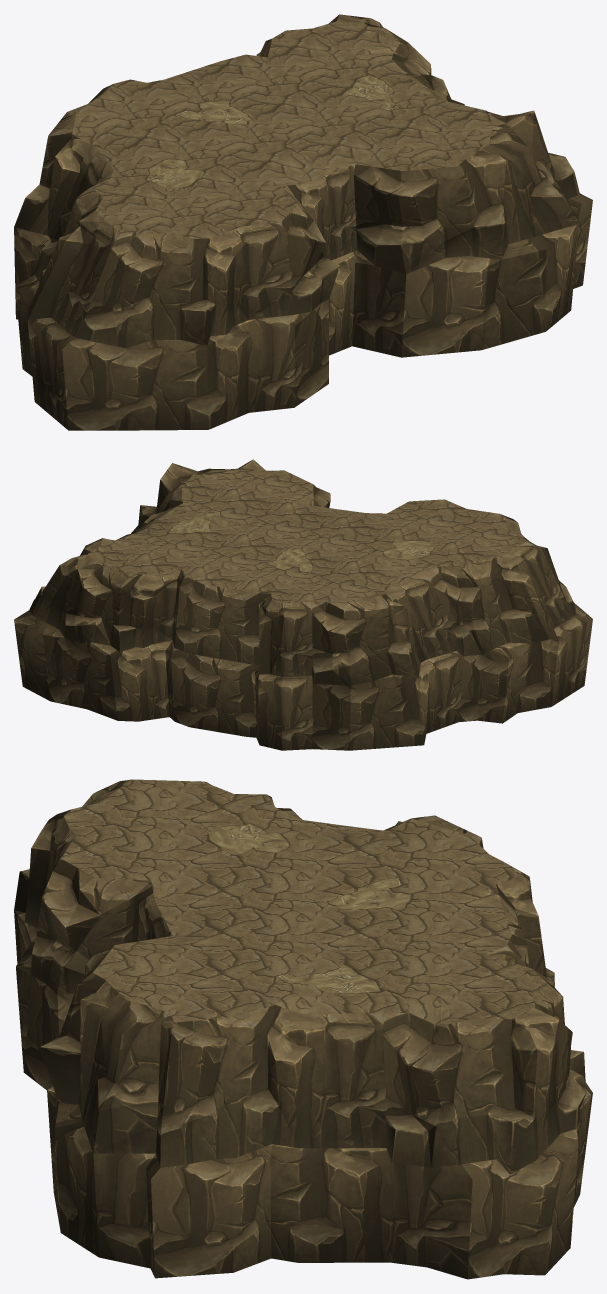
File: D_dimian003.fbx
The picture shows the model from 3 angles, top to bottom: view 1: azimuth 30°, elevation 25°; view 2: azimuth 150°, elevation 25°; view 3: azimuth 270°, elevation 25°; orthographic projection. The views are drawn at different scales.
Parts seen in each view (by area): view 1: D_dimian003; view 2: D_dimian003; view 3: D_dimian003.
Boxes of the visible parts, box(x1,y1,x2,y2) form: D_dimian003: box(14, 14, 592, 430); D_dimian003: box(14, 459, 592, 750); D_dimian003: box(14, 779, 592, 1279).
Bounding box in the file's own units: 2760 × 859 × 2027.
